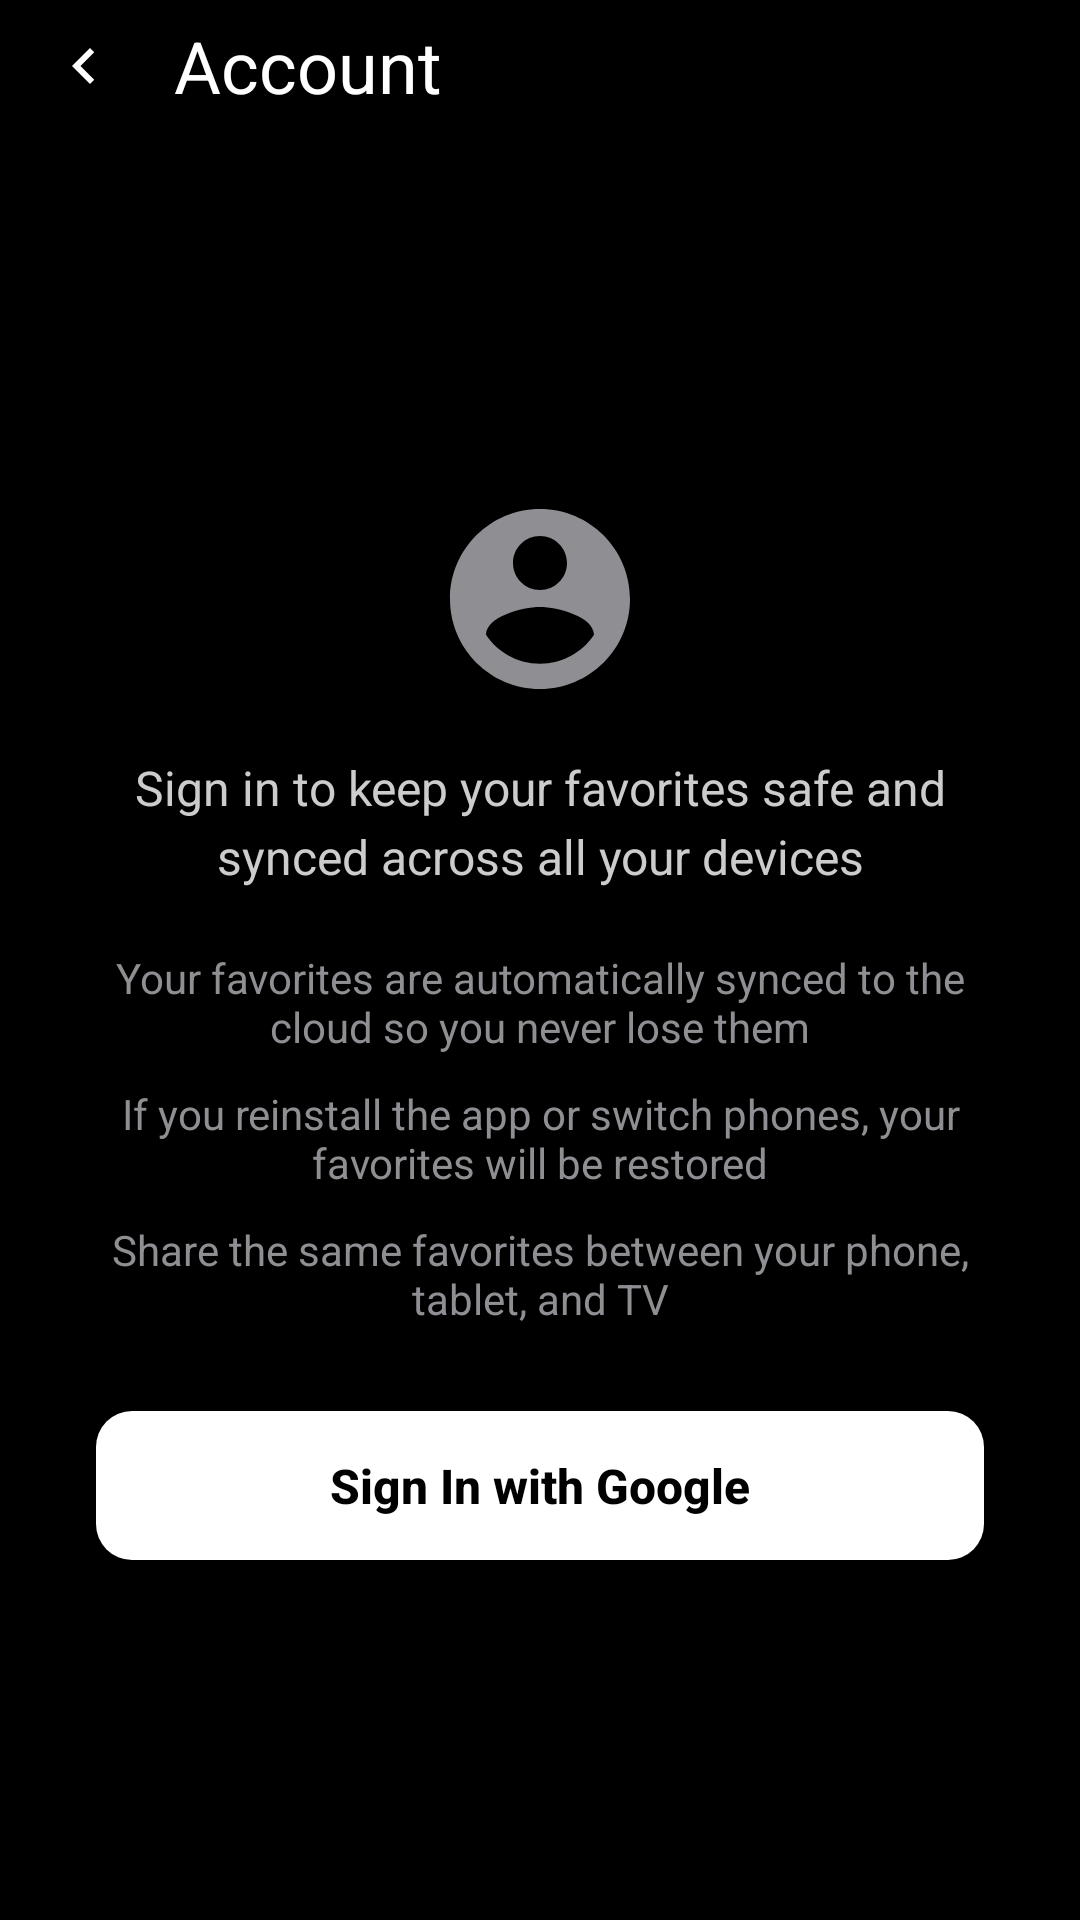

Screen size 1080px×1920px. Icon name, then its center in pixels as point (x, y):
back: point (83, 66)
person circle: point (540, 599)
